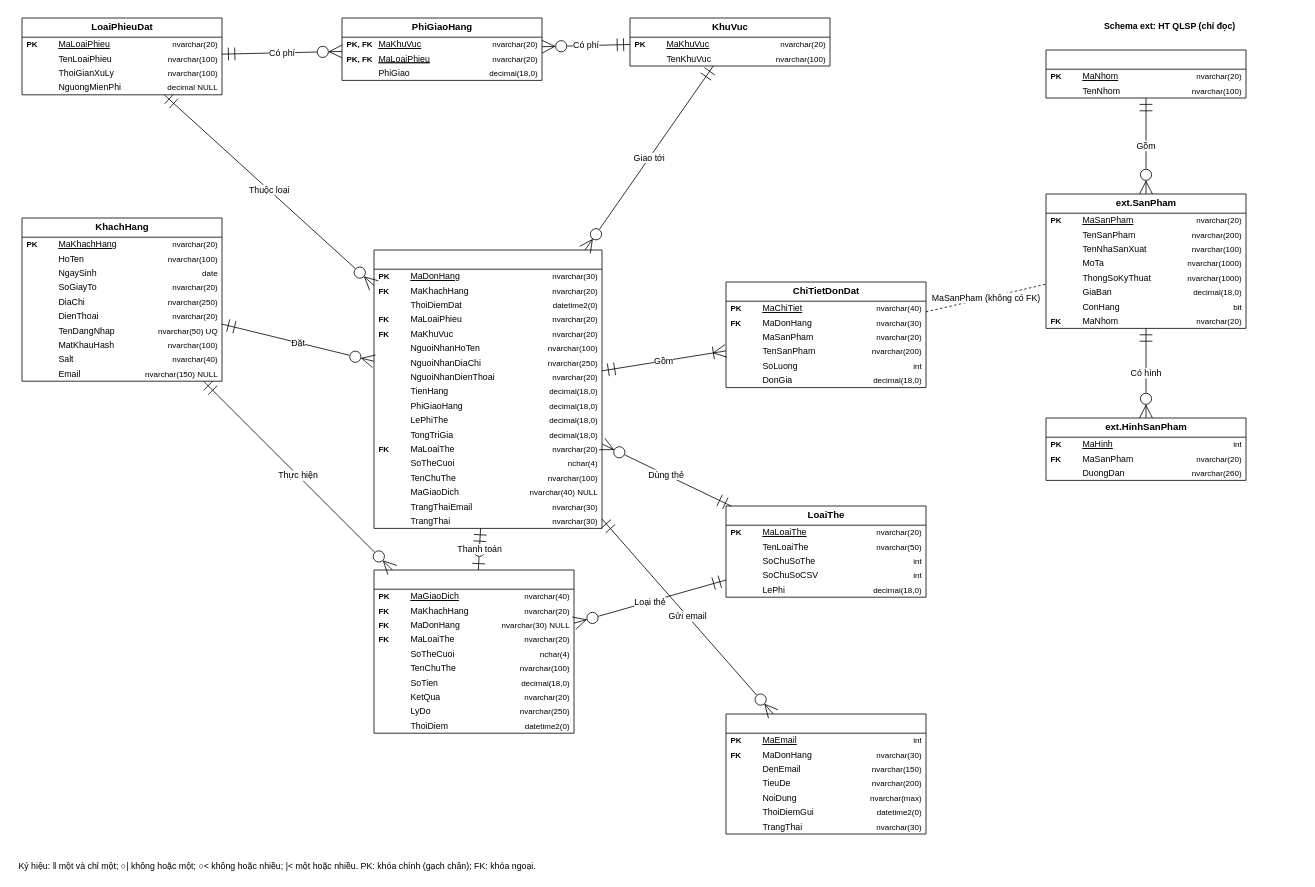
The diagram is 1315 pixels wide and 887 high, and some of its shapes have lost their labels. Each missing label, with the box of its shape:
DonDatHang: (373, 249, 602, 528)
ext.NhomSanPham: (1045, 49, 1246, 98)
GiaoDichThanhToan: (373, 569, 574, 733)
NhatKyEmail: (725, 713, 926, 834)
